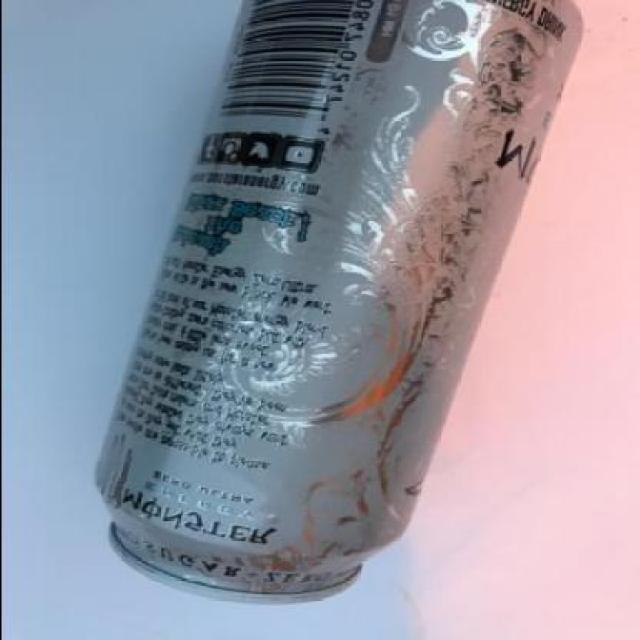METAL: (93, 2, 585, 606)
